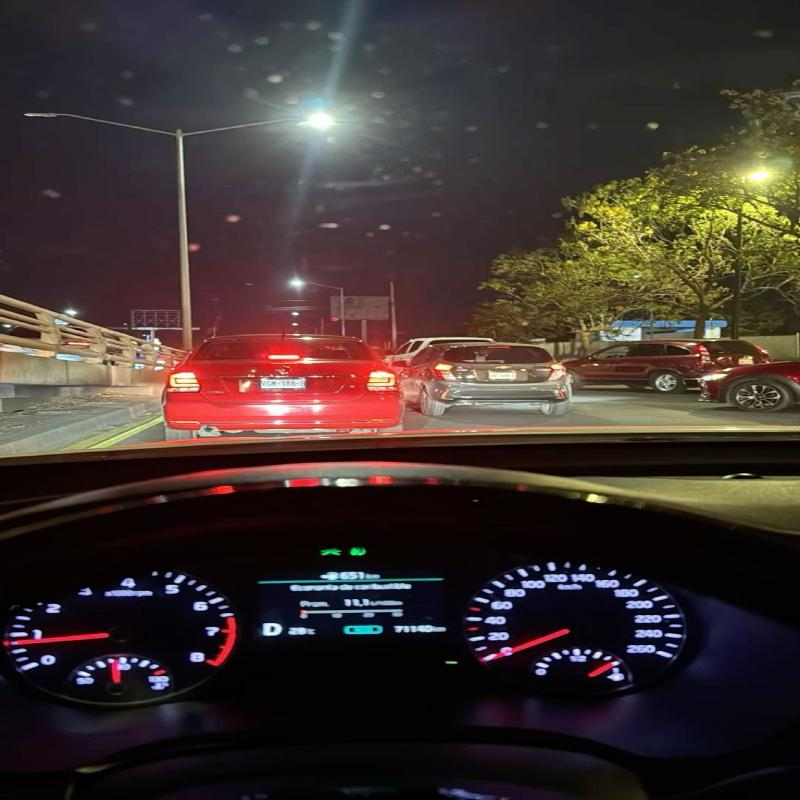license plate on a car: (259, 376, 314, 393), (484, 371, 530, 382)
